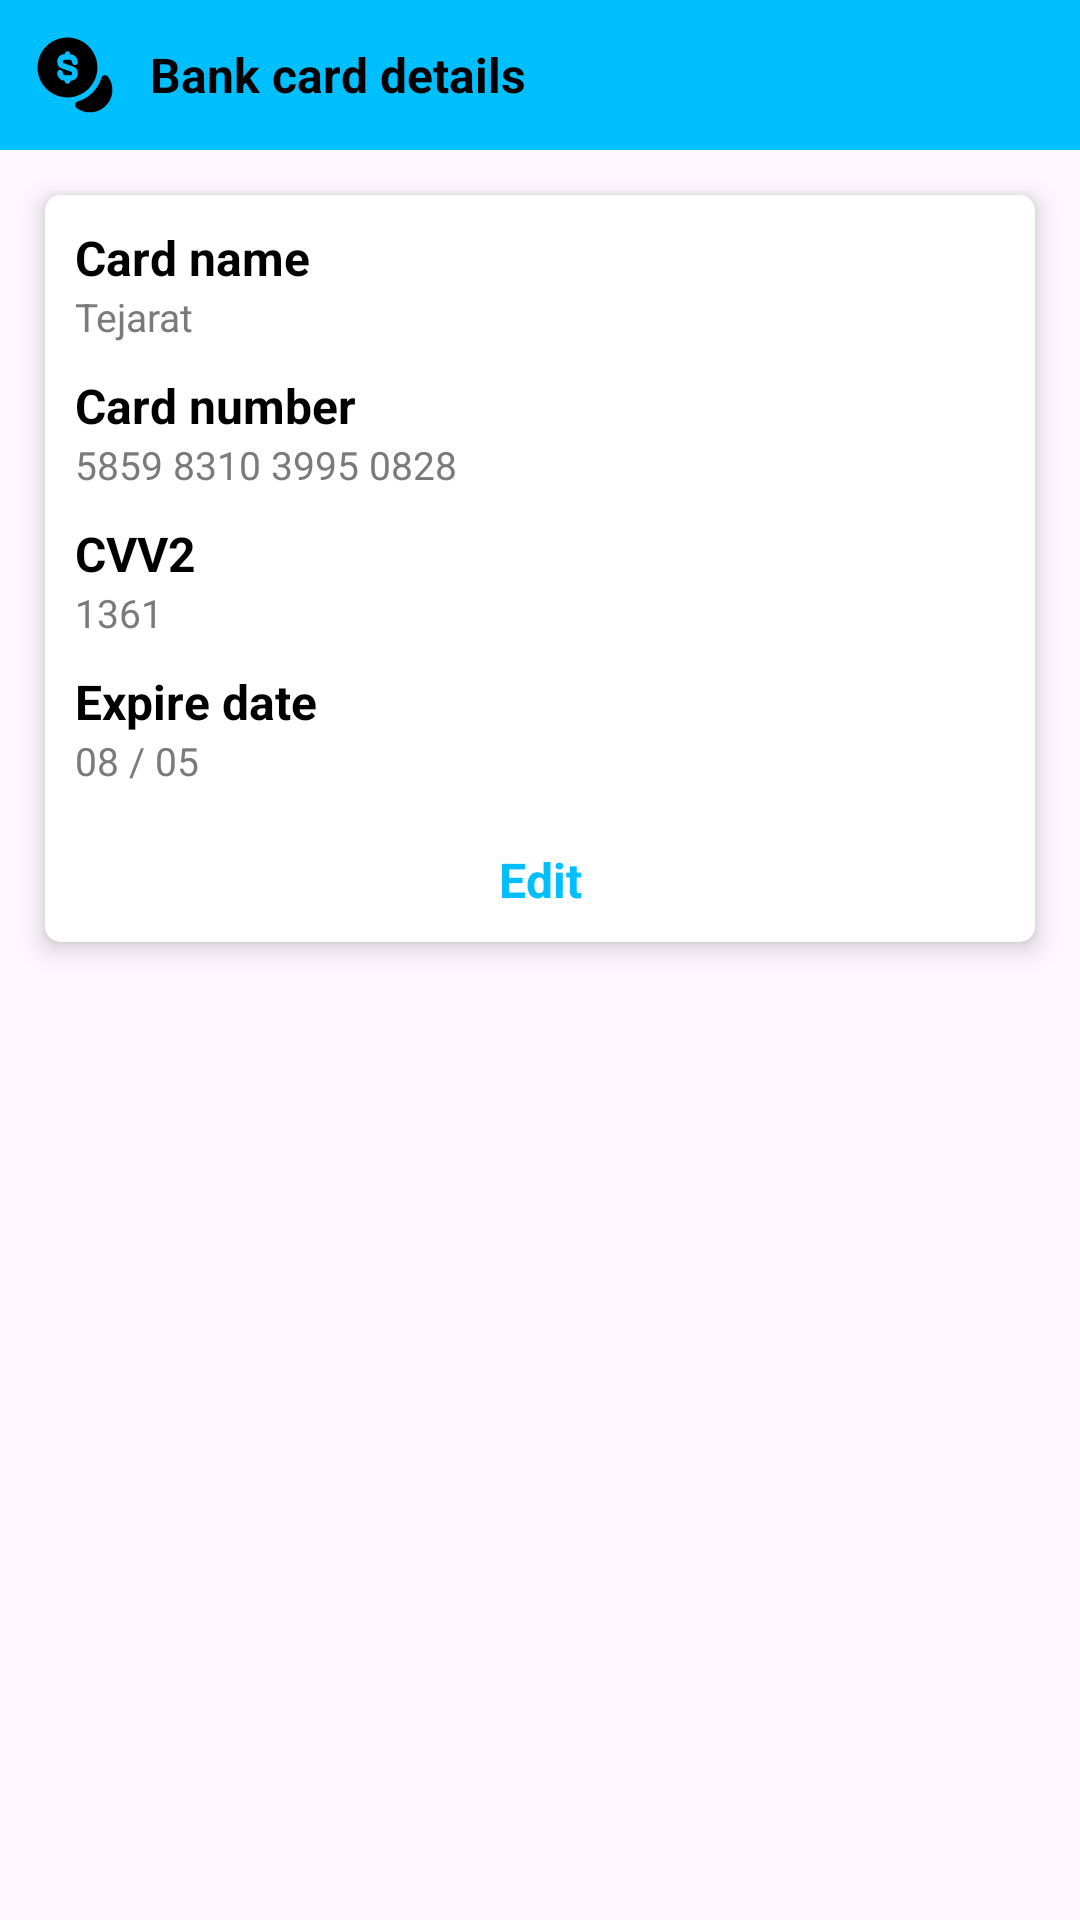

Where to tap for icons on this 1080*1920 app screen, as [x,y]:
coin: [75,75]
